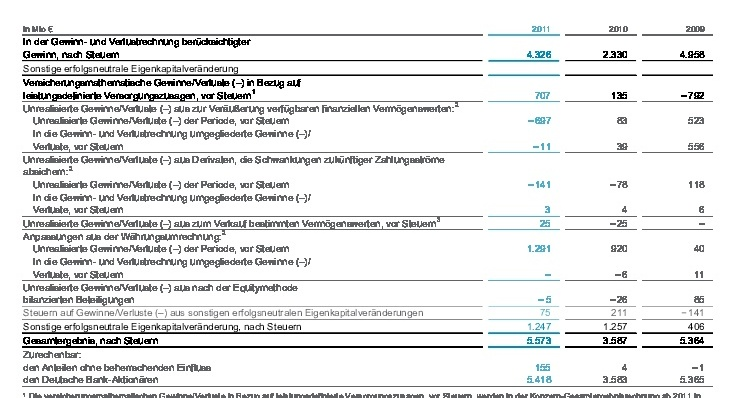table: (0, 0, 731, 398)
